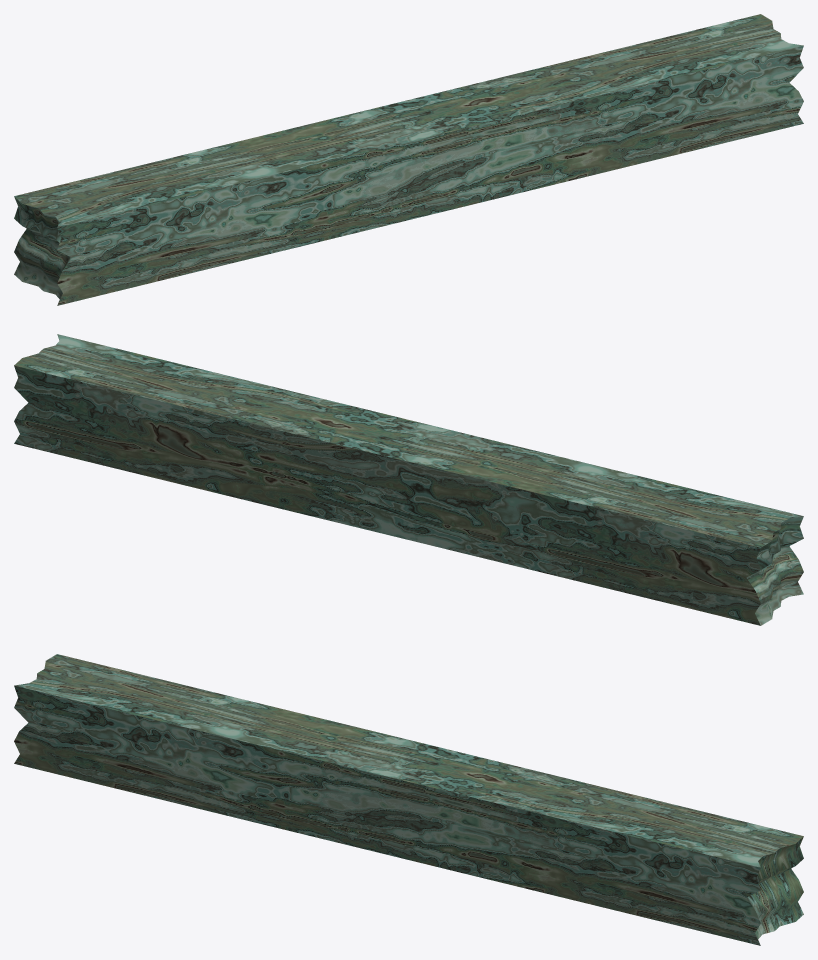
Rendered from Beam_Broken_Wood.FBX.
The picture shows the model from 3 angles, top to bottom: view 1: azimuth 30°, elevation 25°; view 2: azimuth 150°, elevation 25°; view 3: azimuth 330°, elevation 25°; orthographic projection.
Visible parts, largest first — view 1: Box031; view 2: Box031; view 3: Box031.
Boxes of the visible parts, bbox=[...] form: Box031: bbox=[14, 14, 803, 305]; Box031: bbox=[14, 334, 803, 625]; Box031: bbox=[14, 654, 803, 945].
Bounding box in the file's own units: 301 × 30 × 30.
